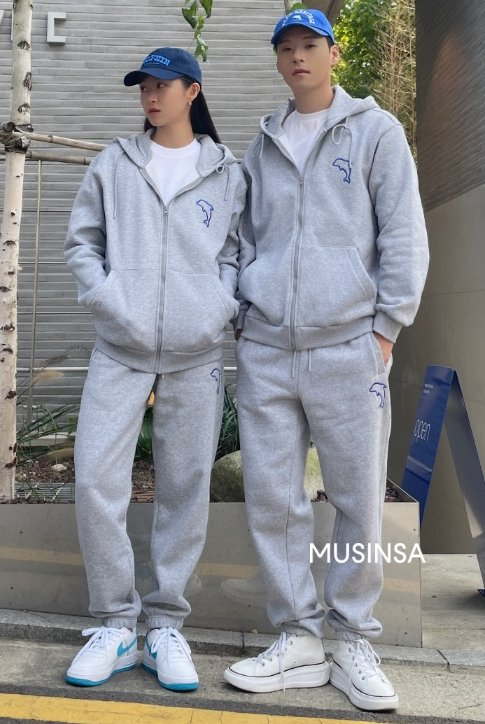Cap: (120, 45, 208, 83), (267, 8, 340, 38)
Outer: (245, 94, 429, 348), (54, 126, 240, 363)
Shoes: (227, 626, 407, 714), (62, 623, 207, 693)
Training pants: (233, 345, 398, 639), (71, 349, 210, 630)
